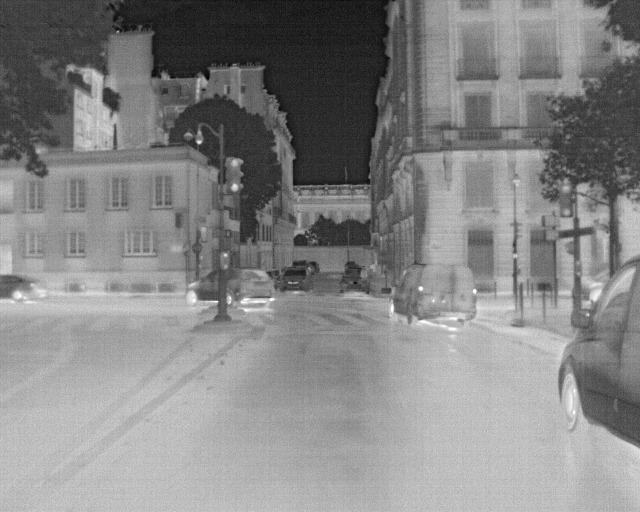car: (558, 253, 639, 449), (389, 263, 478, 328), (187, 267, 276, 307), (0, 274, 49, 302), (339, 266, 372, 294), (280, 267, 312, 292), (264, 268, 286, 288), (292, 259, 315, 274)
light: (227, 158, 240, 193), (560, 184, 573, 217), (221, 251, 230, 270), (239, 158, 244, 191), (575, 259, 582, 277), (201, 226, 207, 242)
sign: (556, 227, 594, 238), (542, 215, 561, 227), (543, 229, 558, 241), (192, 243, 203, 253)
